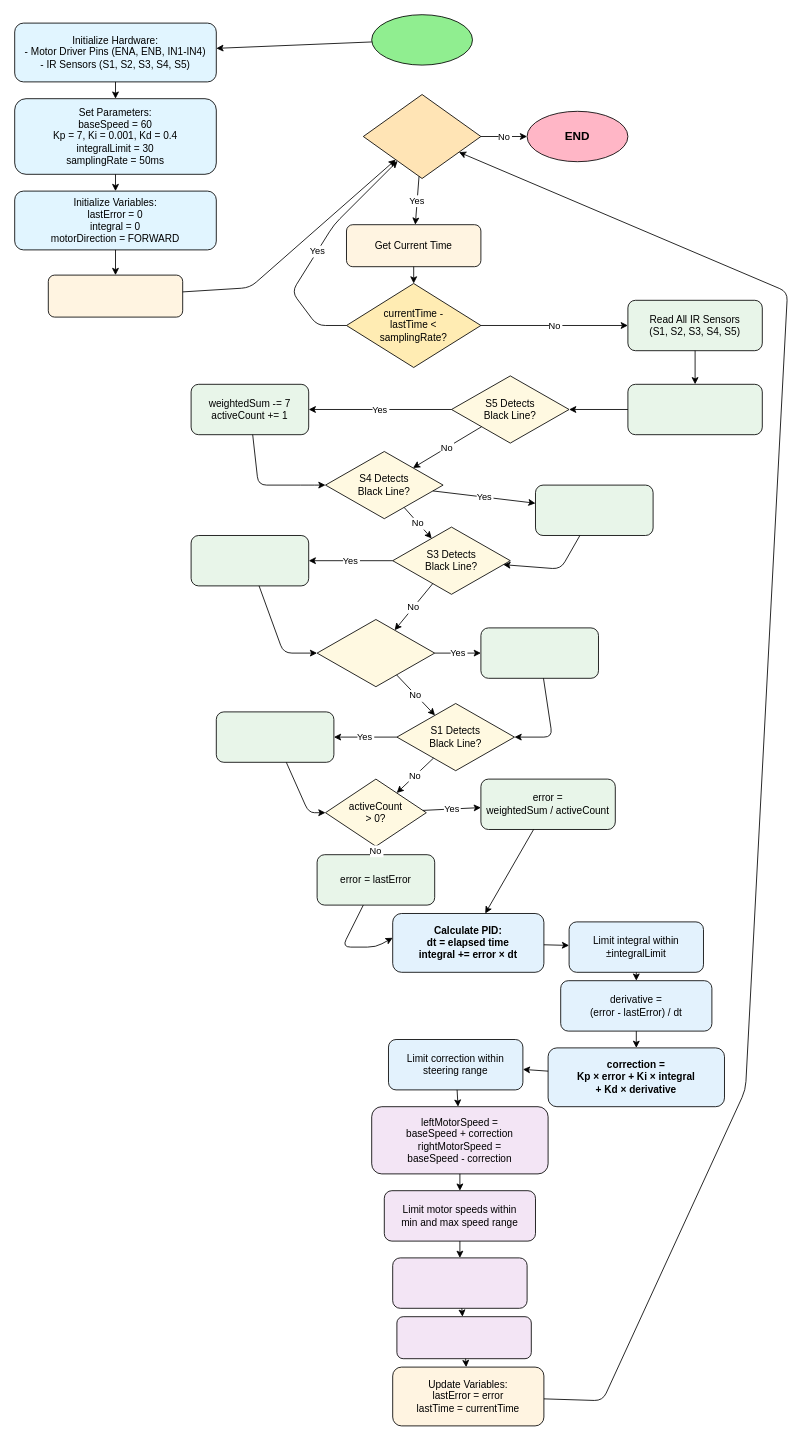
Some shapes in this 809 by 1441 pixel diagram are drawn without their labels. Each missing label, with the centre of its shape:
"Initialize: activeCount = 0 weightedSum = 0" belongs at [694,409].
"Move robot forward" belongs at [463,1337].
"Robot Running?" belongs at [421,136].
"S2 Detects Black Line?" belongs at [375,653].
"Send PWM signals to motors" belongs at [459,1282].
"START" belongs at [421,39].
"Wait 5 seconds" belongs at [115,295].
"weightedSum += 0 activeCount += 1" belongs at [249,560].
"weightedSum += 3 activeCount += 1" belongs at [539,652].
"weightedSum += 7 activeCount += 1" belongs at [274,736].
"weightedSum -= 3 activeCount += 1" belongs at [594,510].
